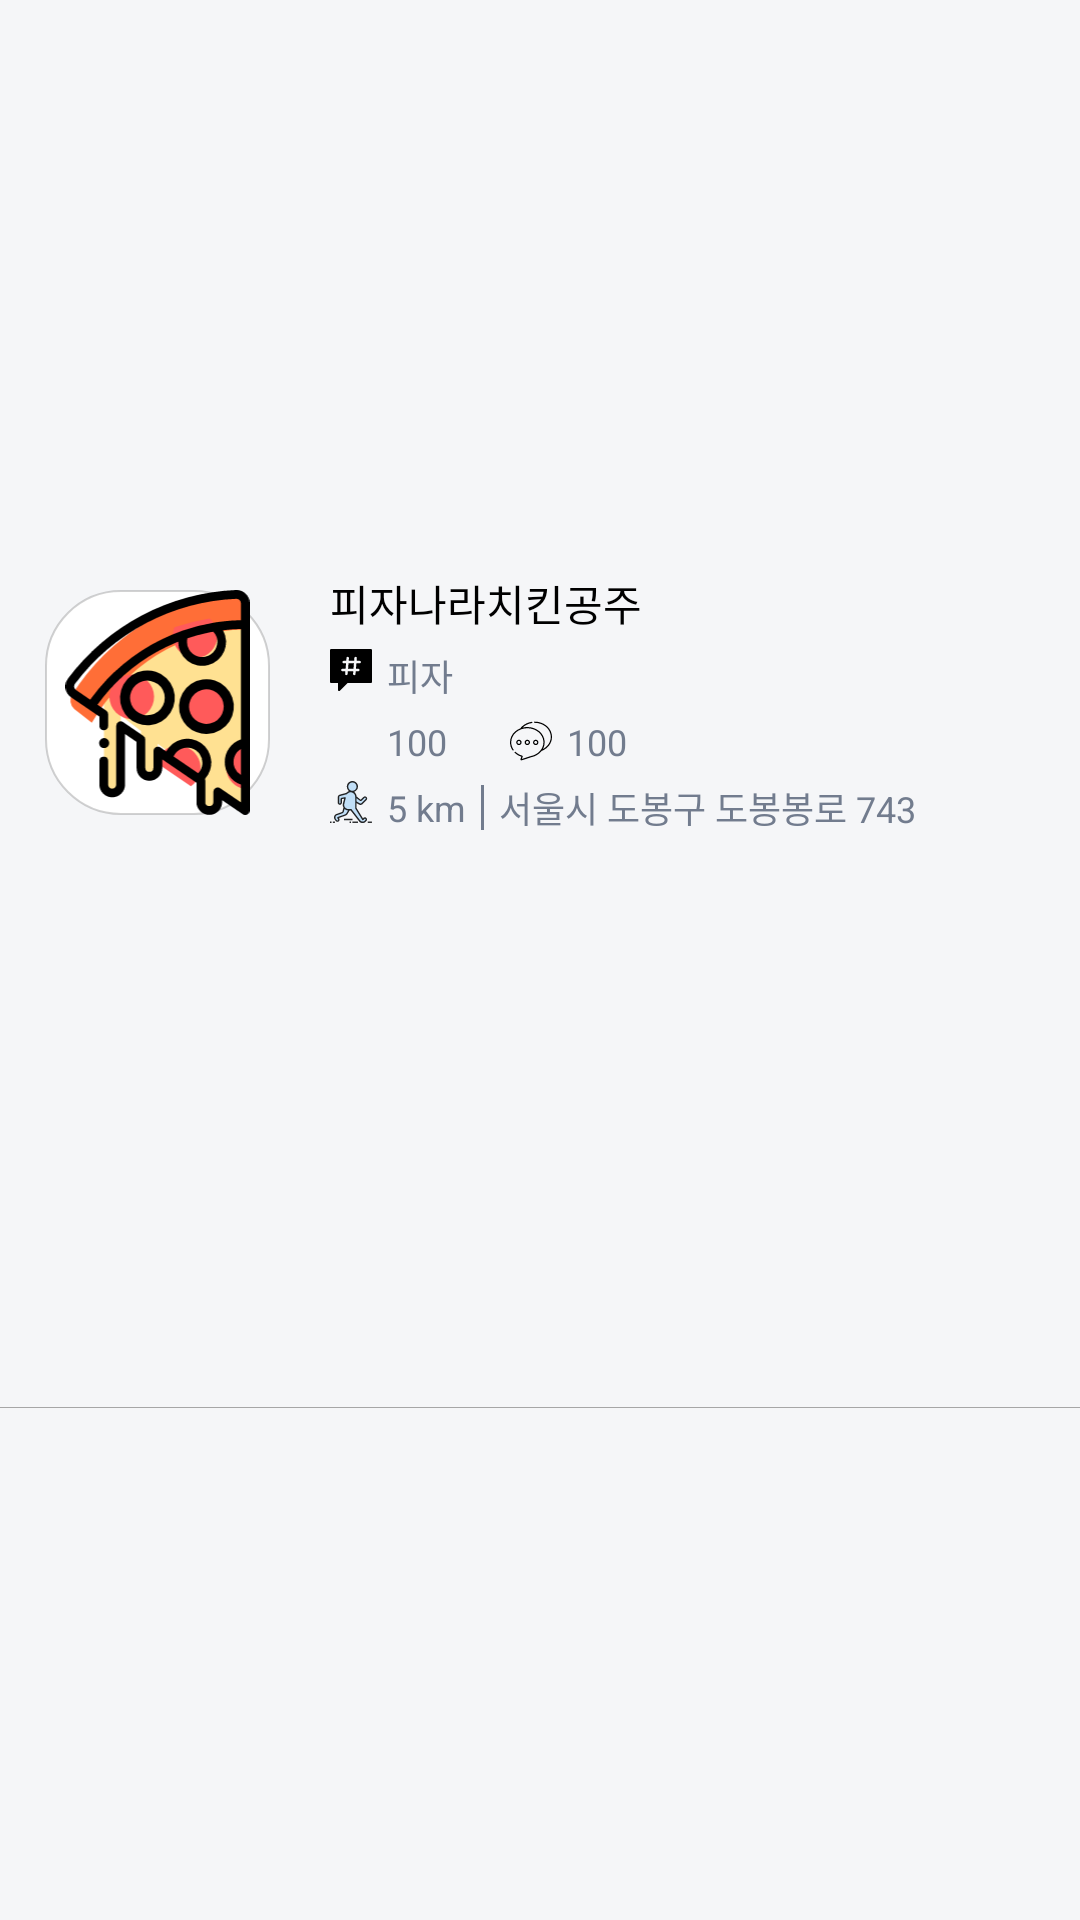

Where icons sit on this 1080w x 1920h app screen, as (x1, y1, x2, y2):
hashtag: (330, 649, 372, 691)
pizza: (45, 590, 270, 815)
running: (330, 781, 372, 823)
speech bubbless: (510, 721, 552, 761)
